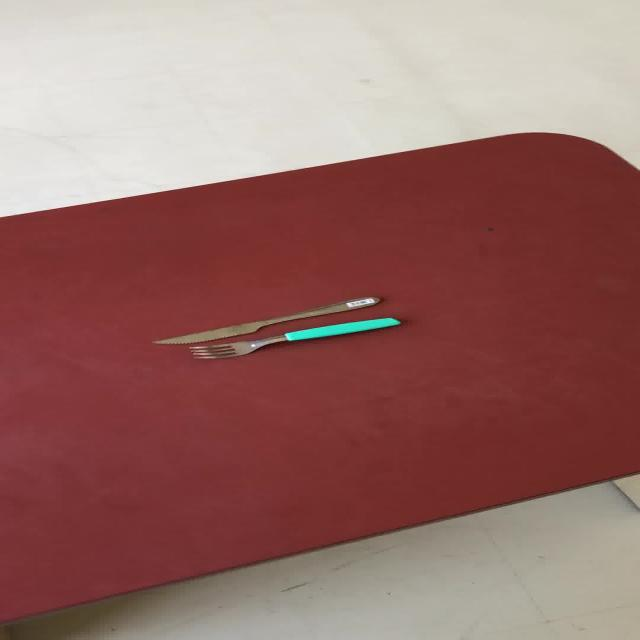fork: (188, 316, 400, 359)
knife fork: (149, 295, 381, 345)
